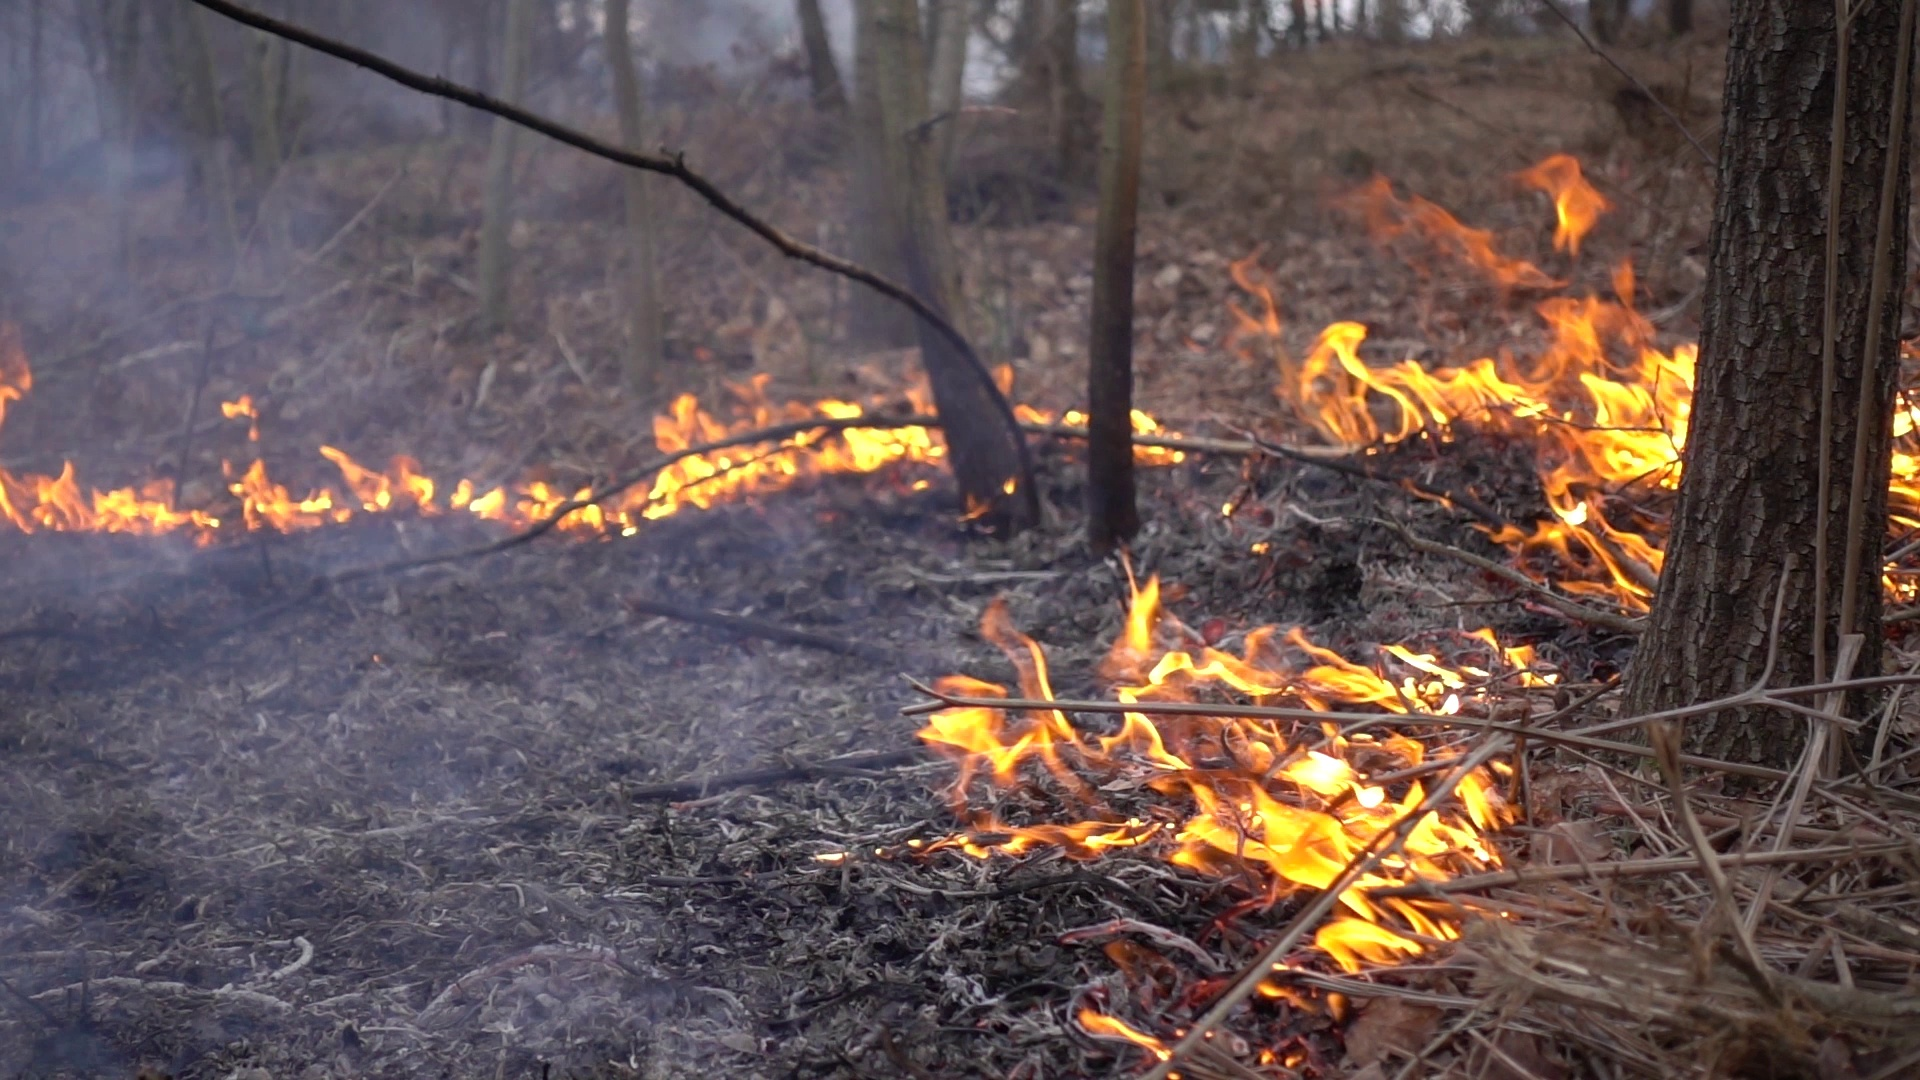fire: (922, 575, 1513, 986), (1255, 235, 1704, 582), (650, 396, 938, 517), (227, 454, 438, 527), (1, 483, 208, 529), (475, 481, 603, 538), (1894, 404, 1920, 498), (1127, 401, 1159, 443), (1884, 571, 1917, 603)
